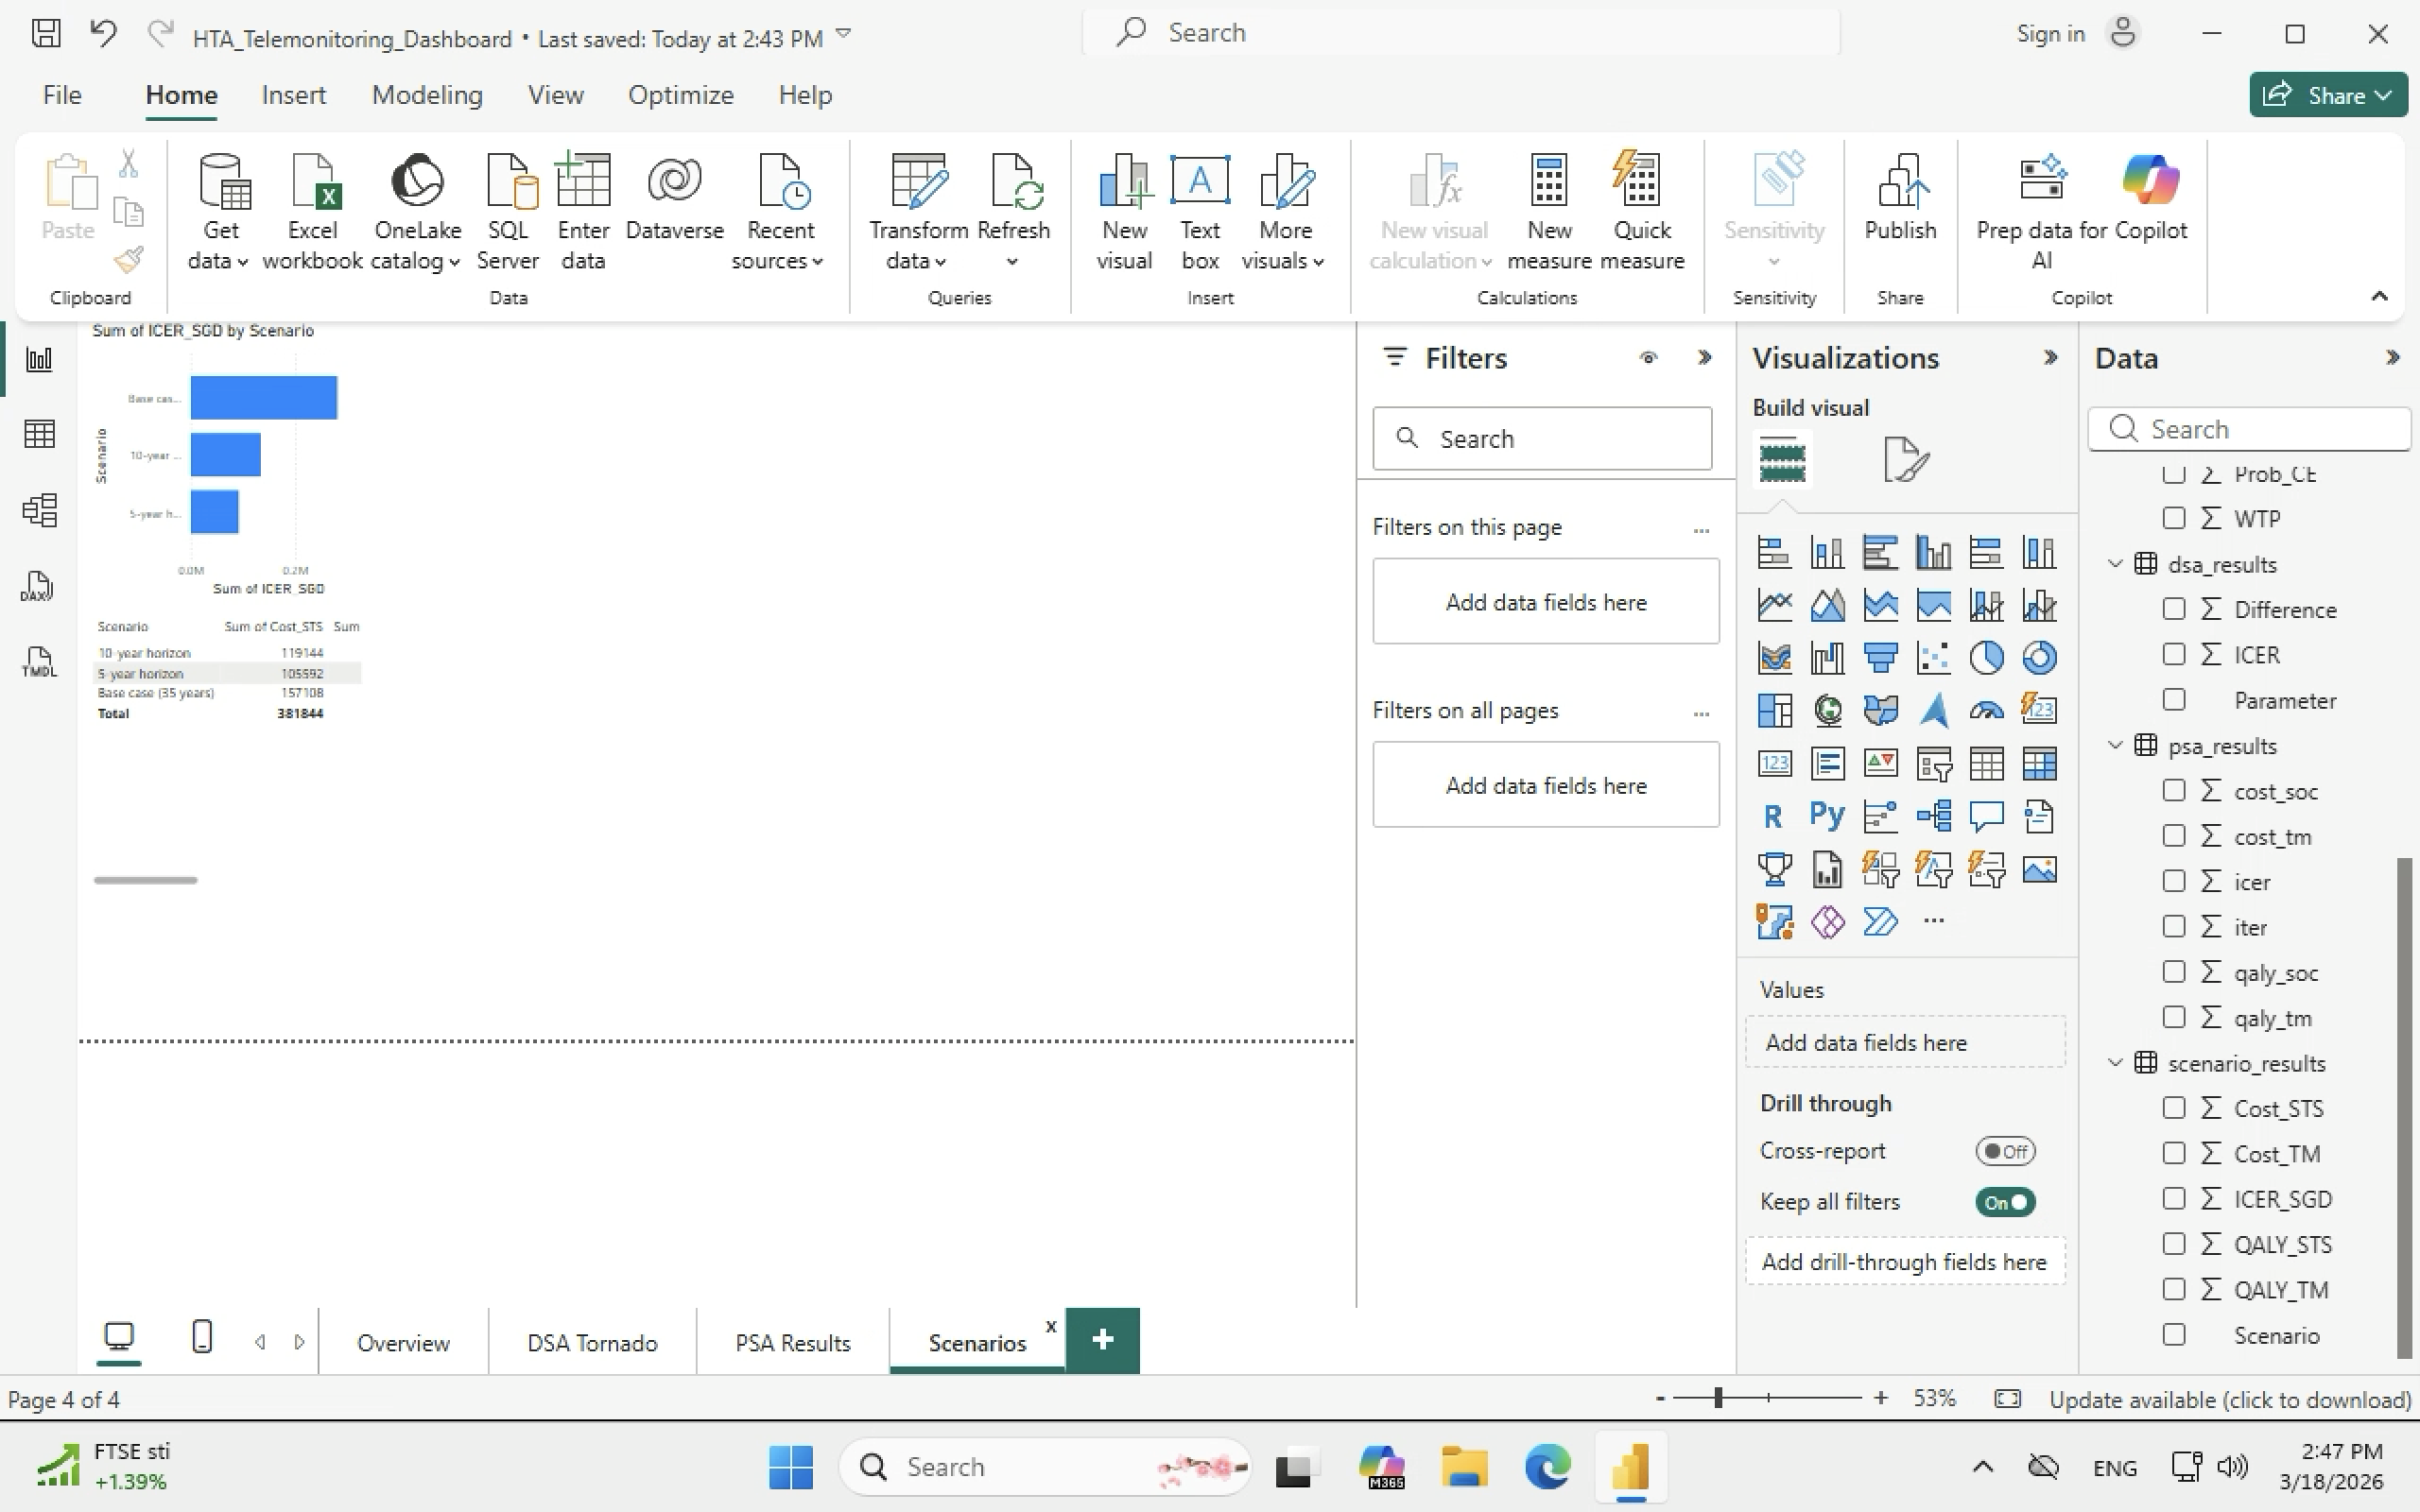

The page's visual inventory and layout, read from the dashboard file:
{"tool":"powerbi","page":{"name":"Scenarios","canvas":[1280,720],"ordinal":3},"visuals":[{"type":"clusteredBarChart","fields":{"Category":["scenario_results.Scenario"],"Y":["Sum(scenario_results.ICER_SGD)"]},"box":[10,0,280,280],"z":0},{"type":"tableEx","fields":{"Values":["scenario_results.Scenario","Sum(scenario_results.Cost_STS)","Sum(scenario_results.Cost_TM)","Sum(scenario_results.QALY_STS)","Sum(scenario_results.QALY_TM)","Sum(scenario_results.ICER_SGD)"]},"box":[10,290,280,280],"z":1}]}

Visuals, with their boxes on the page's 1280x720 design canvas (x1, y1, x2, y2). These are canvas units, not pixel positions in the 2420x1512 screenshot, which may show the page scaled, cropped or inside an application window:
clusteredBarChart - scenario_results.Scenario x Sum(scenario_results.ICER_SGD): region(10, 0, 290, 280)
tableEx - scenario_results.Scenario x Sum(scenario_results.Cost_STS): region(10, 290, 290, 570)
